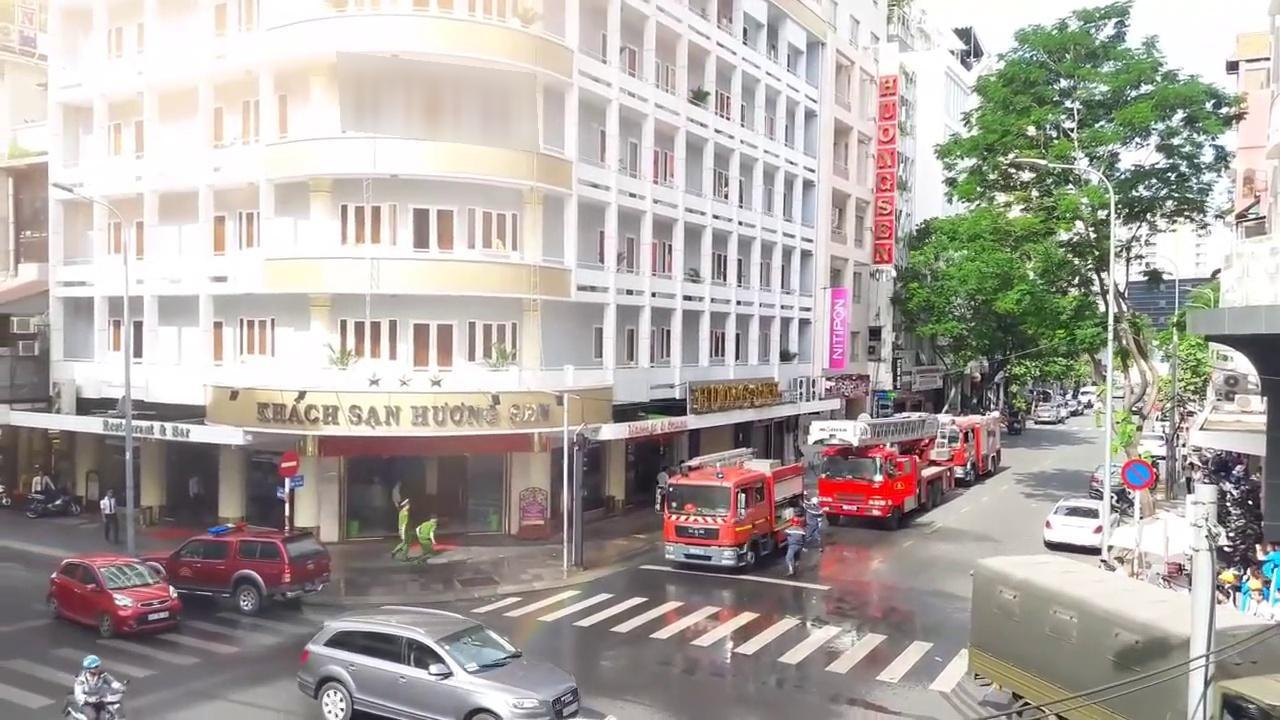xe cuu hoa: (662, 447, 808, 569), (816, 419, 956, 529), (925, 410, 1000, 487)
xe hoi: (296, 605, 583, 720), (132, 521, 332, 614), (48, 550, 190, 633), (1042, 493, 1120, 553), (1088, 460, 1130, 500)
xe may: (64, 654, 129, 720)
xe tai: (966, 553, 1280, 720)
